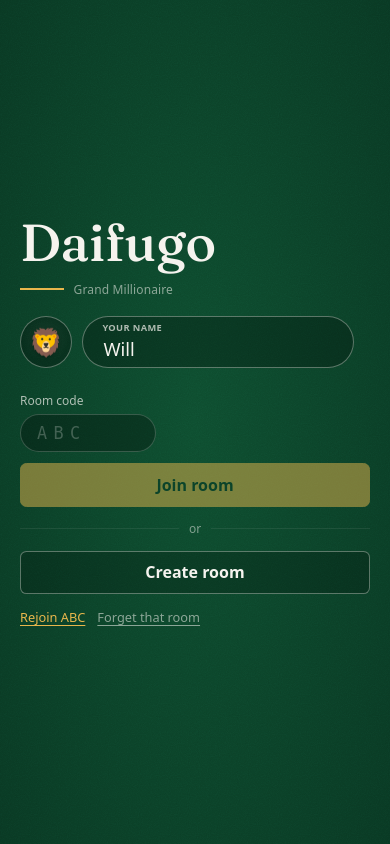
Scenario: SocketContext › keeps a stored seat for another room when a join elsewhere fails
// The name is already prefilled from the stored session.
Type "ZZZ" into the field labelled "Room code". click: [88, 433]
box: [20, 414, 156, 452]
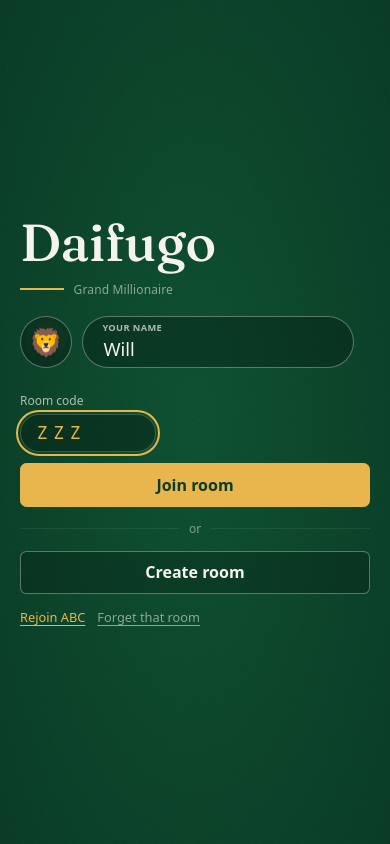
Click the button "Join room". click: [195, 485]
box: [20, 463, 370, 507]
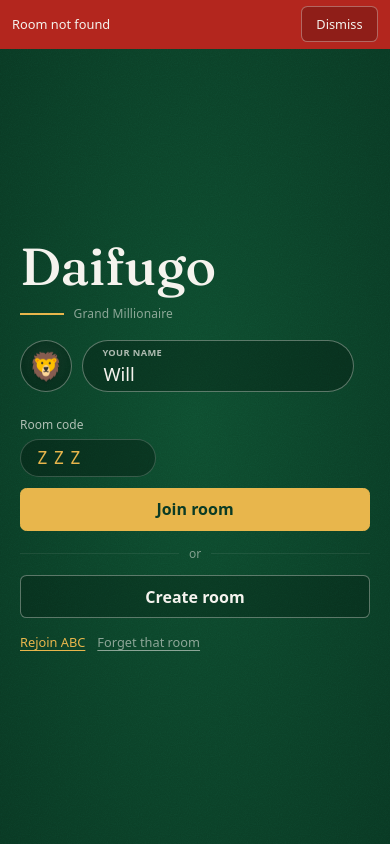
Check: the button "Rejoin ABC" is shown, box [20, 633, 85, 651]
Check: the message shows "Room not found", box [12, 15, 110, 33]
